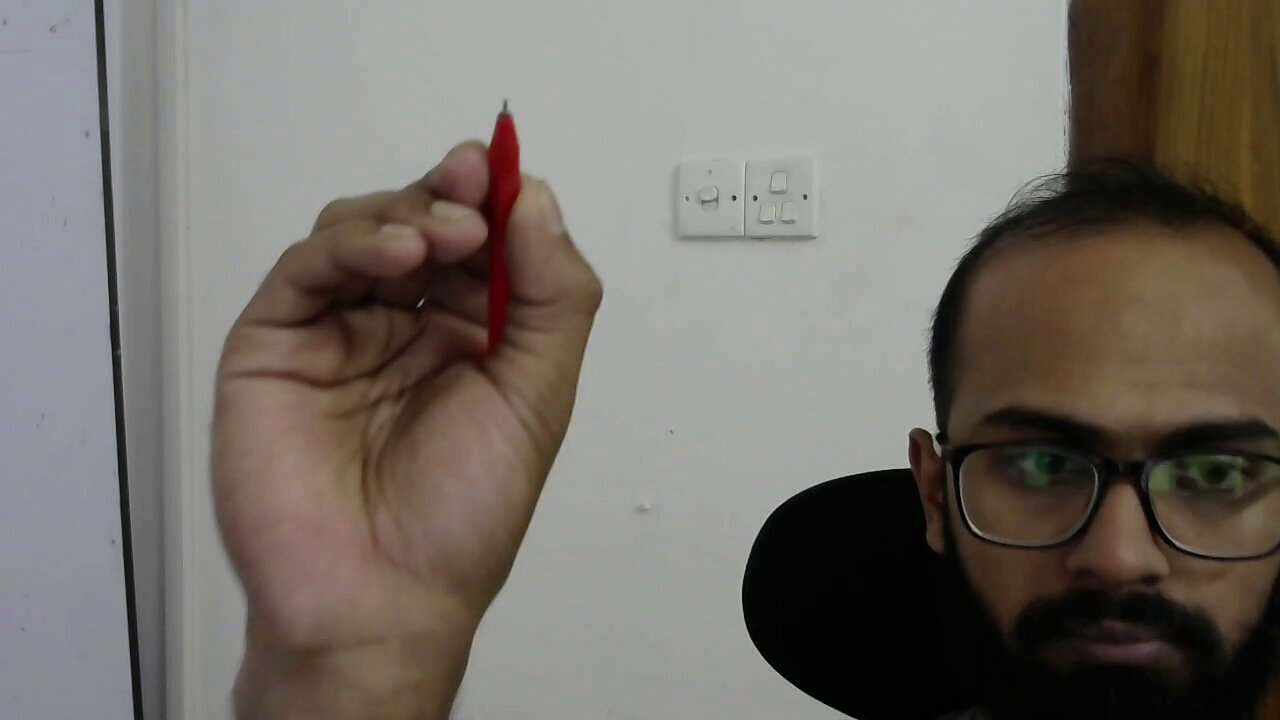pointer: (207, 138, 607, 538)
